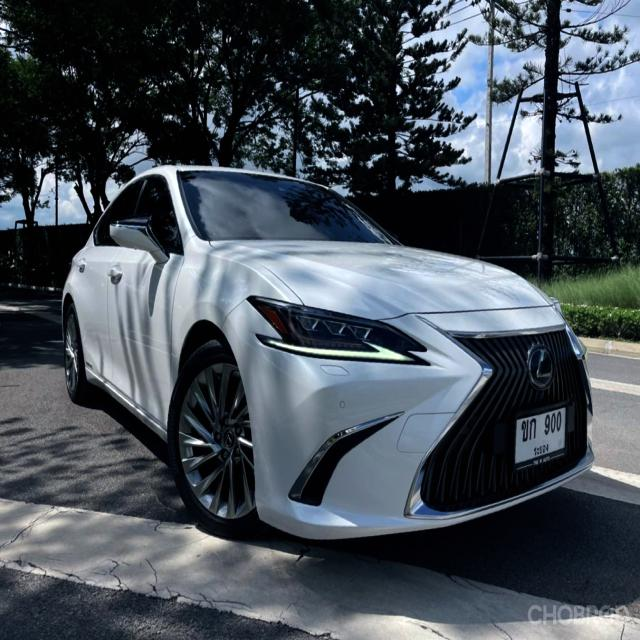license_plate: (510, 402, 572, 474)
